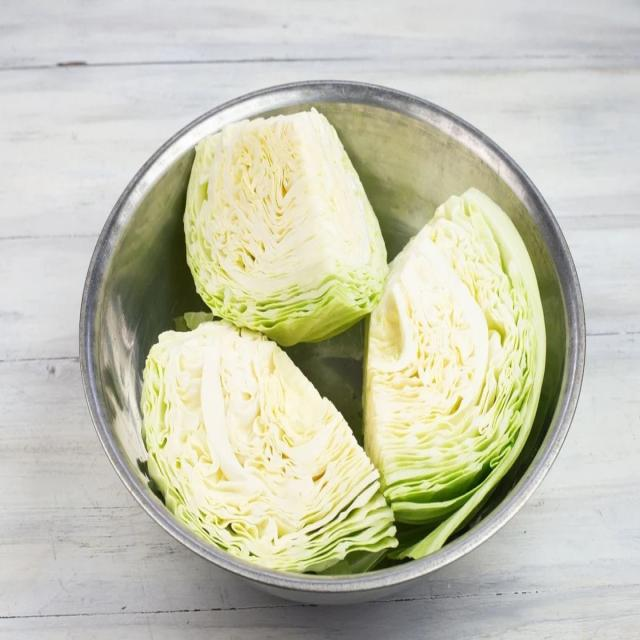haft-cabbage: (138, 309, 402, 589), (356, 182, 548, 561), (184, 105, 391, 350)
